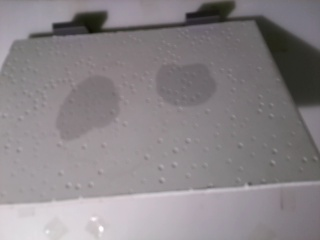Water_detected: (75, 82, 113, 137), (166, 70, 210, 105)
